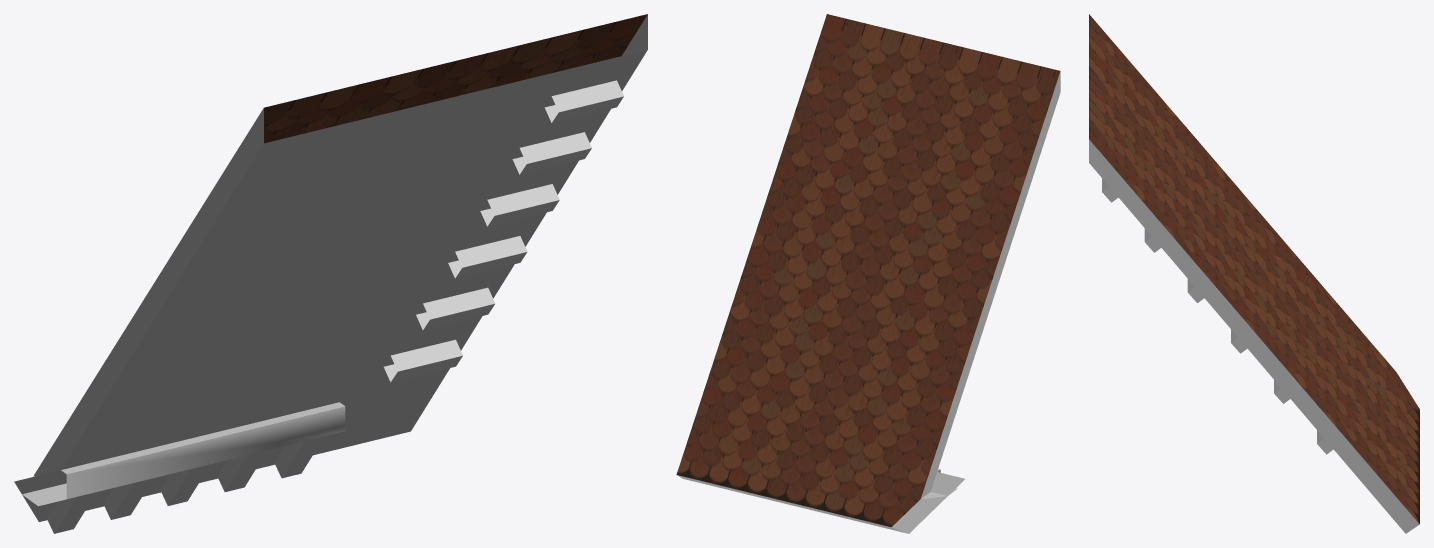
File: Roof_End_Angle_02_B.FBX
3 views of the same model, side by side, from view 1: azimuth 30°, elevation 25°; view 2: azimuth 150°, elevation 25°; view 3: azimuth 270°, elevation 25° (orthographic). The views are drawn at different scales.
Parts seen in each view (by area): view 1: Roof_End_Angle_02_B; view 2: Roof_End_Angle_02_B; view 3: Roof_End_Angle_02_B.
Boxes of the visible parts, <box> form: Roof_End_Angle_02_B: <box>14,14,647,533</box>; Roof_End_Angle_02_B: <box>676,14,1060,533</box>; Roof_End_Angle_02_B: <box>1089,14,1419,533</box>.
Bounding box in the file's own units: 7.57 × 10.04 × 7.53.
